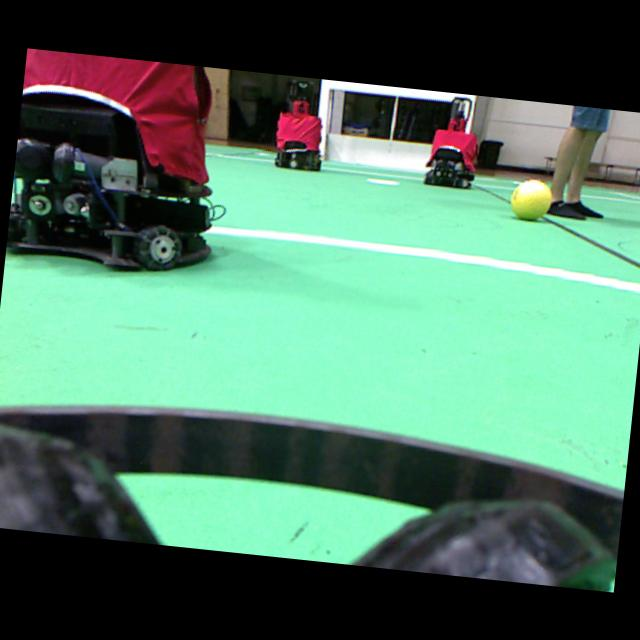ball: (510, 179, 550, 219)
goal: (317, 79, 328, 157)
